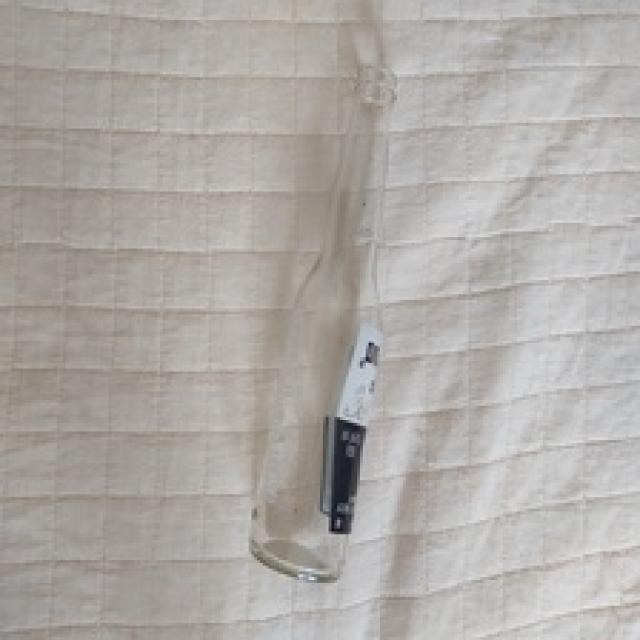glass: (245, 62, 400, 586)
